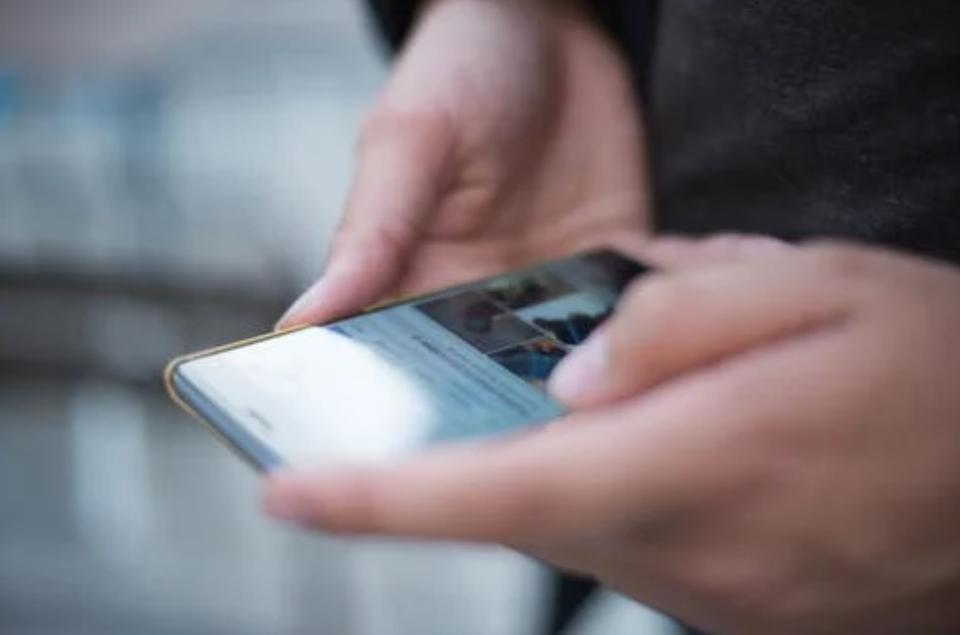mobile: (163, 247, 663, 494)
